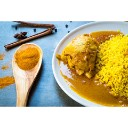briyani: (64, 35, 128, 95)
